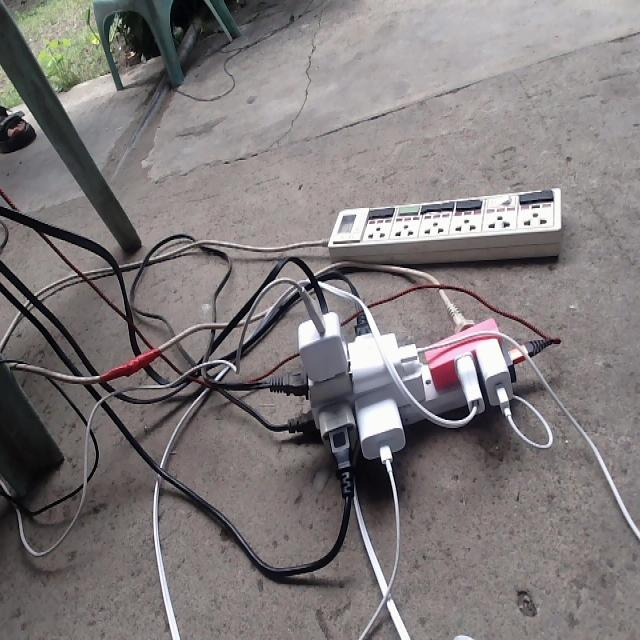-: (268, 280, 551, 507)
